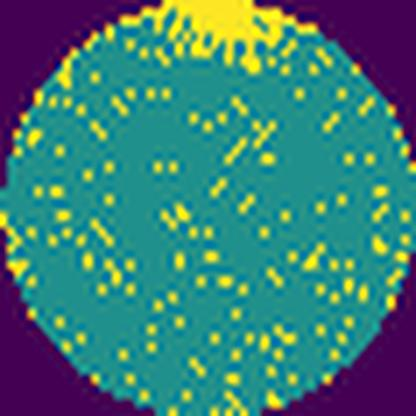Edge-Loc: (138, 0, 319, 75)
